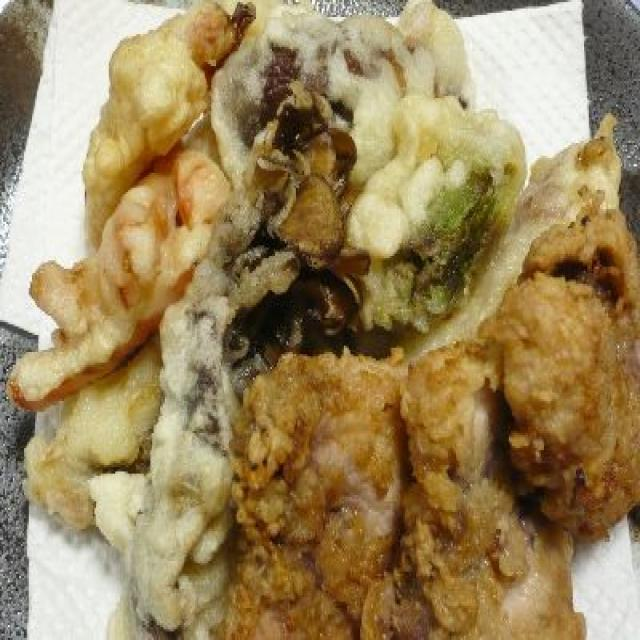蔬菜料理: (17, 0, 640, 640)
